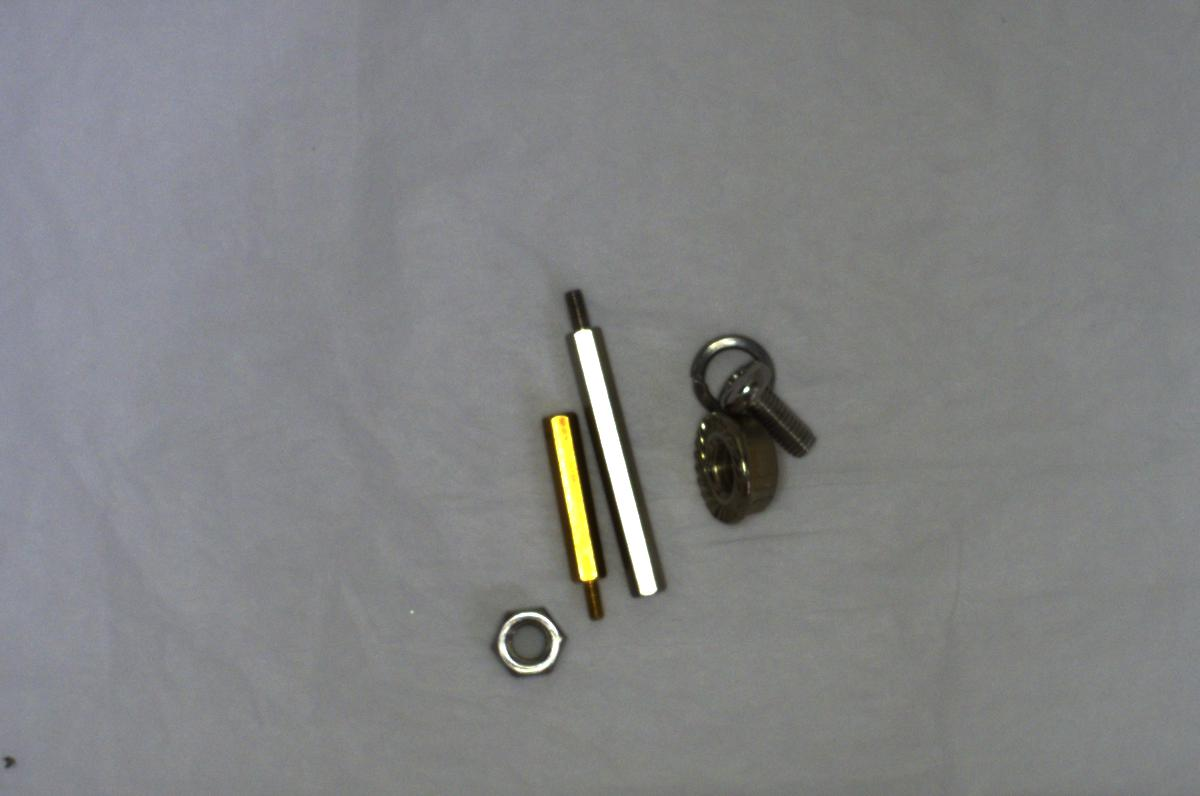Flange nut: (687, 414, 781, 532)
Hexagon nut: (482, 594, 572, 681)
Hexagon pillar: (532, 403, 617, 626)
Hexagonal steel column: (555, 278, 672, 605)
Round head screw: (717, 361, 821, 462)
Spring washer: (688, 329, 782, 414)
